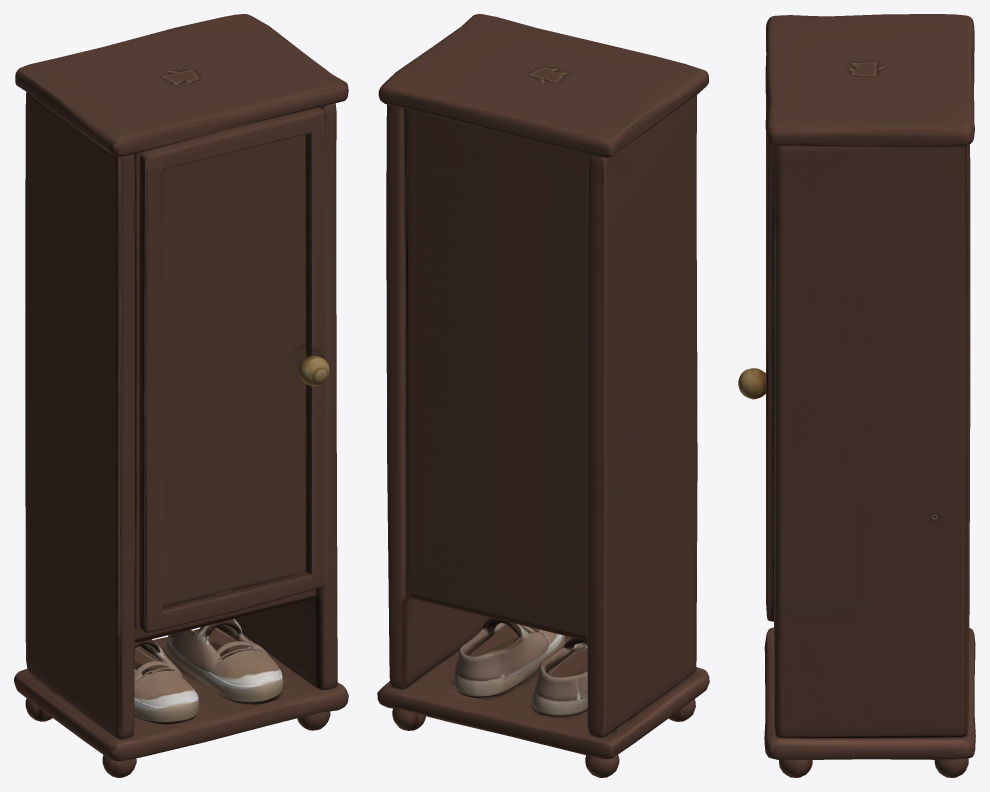
The model's file is toonstudio_shoe_cabinet.glb.
3 views of the same model, side by side, from view 1: azimuth 30°, elevation 25°; view 2: azimuth 150°, elevation 25°; view 3: azimuth 270°, elevation 25° (orthographic).
Parts seen in each view (by area): view 1: tripo_96cbd3ac_8c8e_440c_ba4d_dc684d6ad674; view 2: tripo_96cbd3ac_8c8e_440c_ba4d_dc684d6ad674; view 3: tripo_96cbd3ac_8c8e_440c_ba4d_dc684d6ad674.
Part boxes in pixels (bbox=[...]): tripo_96cbd3ac_8c8e_440c_ba4d_dc684d6ad674: bbox=[14, 14, 348, 777]; tripo_96cbd3ac_8c8e_440c_ba4d_dc684d6ad674: bbox=[377, 14, 709, 777]; tripo_96cbd3ac_8c8e_440c_ba4d_dc684d6ad674: bbox=[738, 14, 975, 777].
Size of the model in its own units: 0.3854 by 1 by 0.3268.
Materials: 1 (1 with a texture image).
